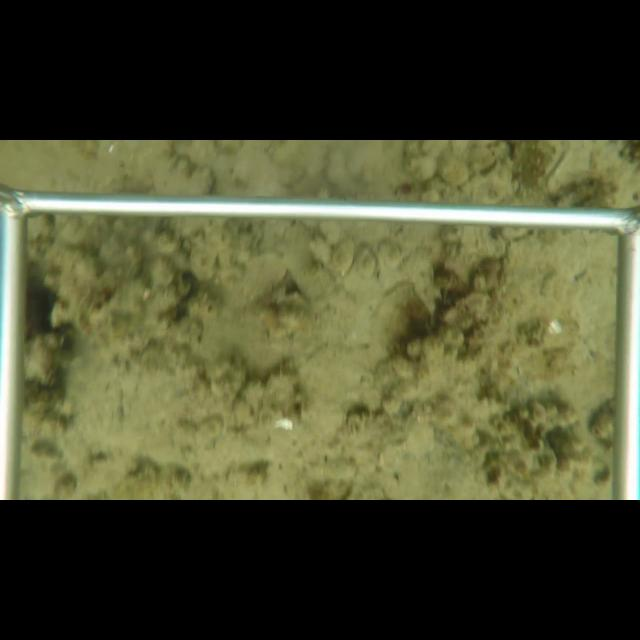Oyster-Closed: (150, 151, 218, 195)
